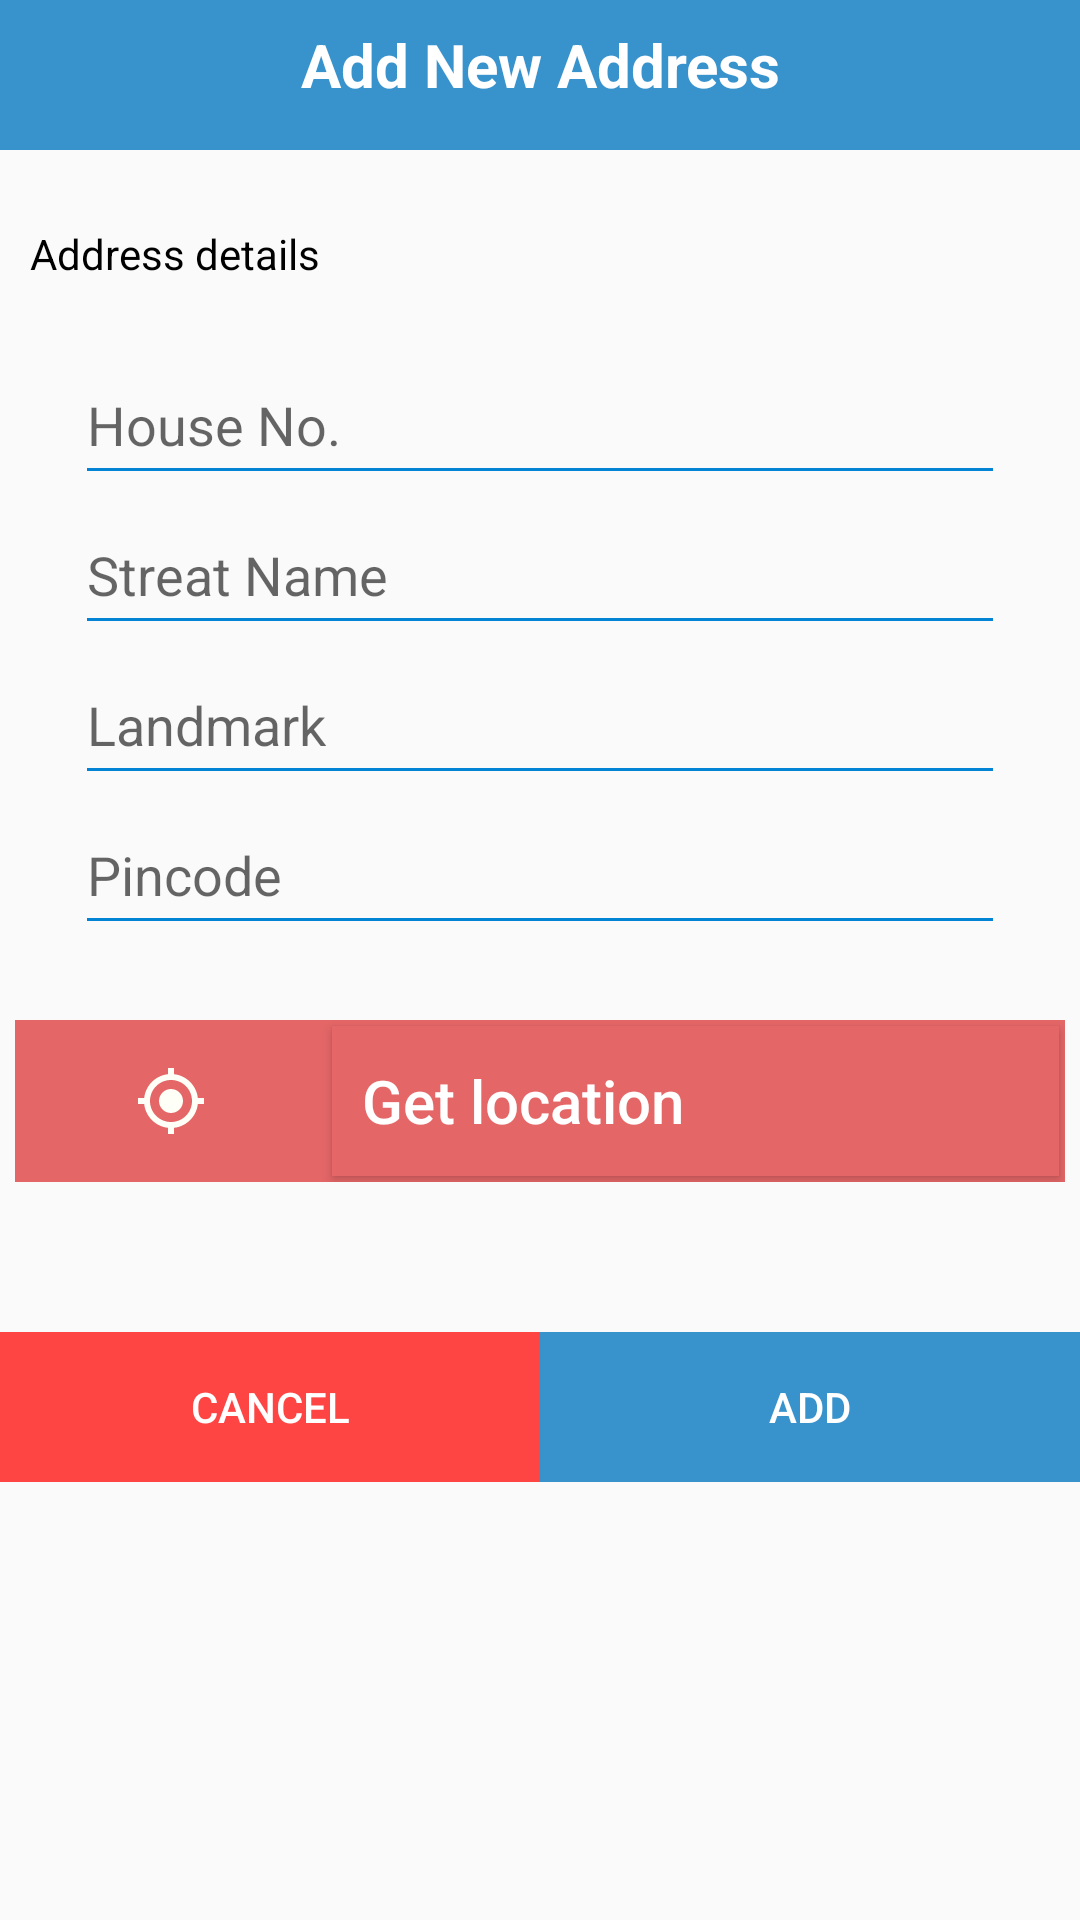

Point at icon controls on the screen. Image size 1080 x 1920, points as [x,y].
gps fixed: [170,1101]
